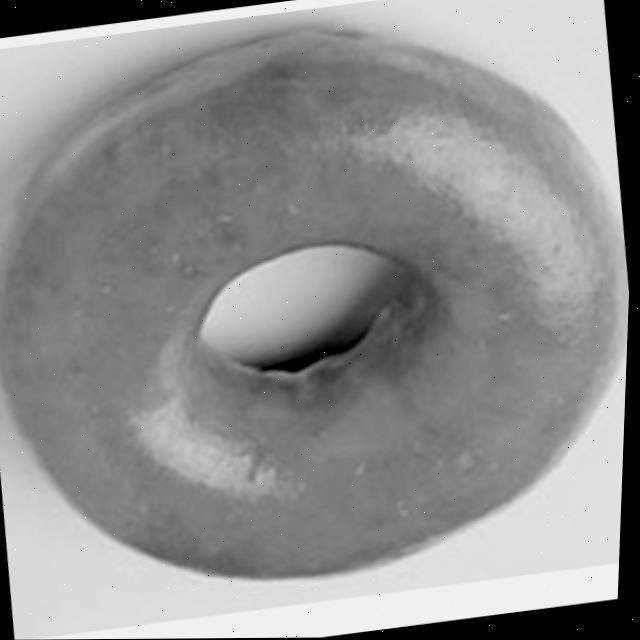炸货点心: (0, 15, 639, 605)
